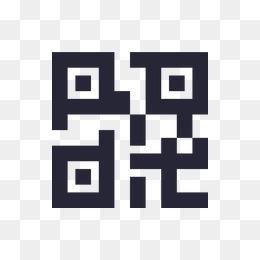QRCode: (44, 46, 237, 220)
